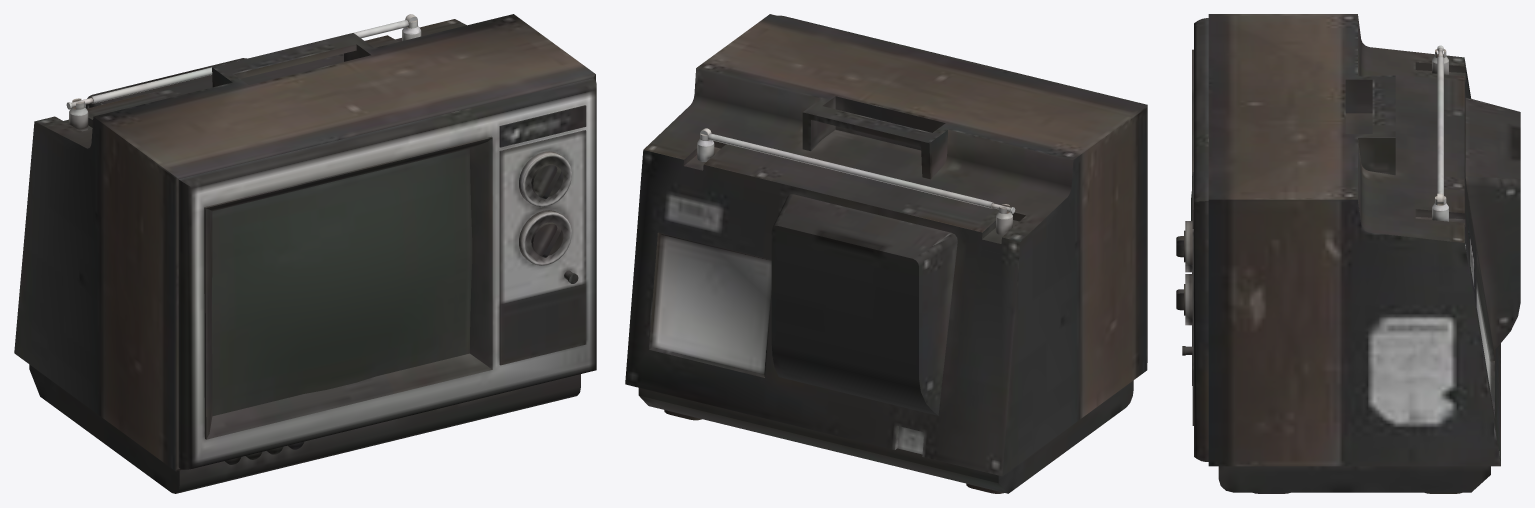
3 views of the same model, side by side, from view 1: azimuth 30°, elevation 25°; view 2: azimuth 150°, elevation 25°; view 3: azimuth 270°, elevation 25° (orthographic). The views are drawn at different scales.
Visible parts, largest first — view 1: Television_01; view 2: Television_01; view 3: Television_01.
Boxes of the visible parts, box(x1,y1,x2,y2) form: Television_01: box(14, 14, 596, 493); Television_01: box(625, 14, 1147, 493); Television_01: box(1176, 14, 1520, 493).
Size of the model in its own units: 0.6 by 0.4568 by 0.4708.
Materials: 1 (1 with a texture image).
